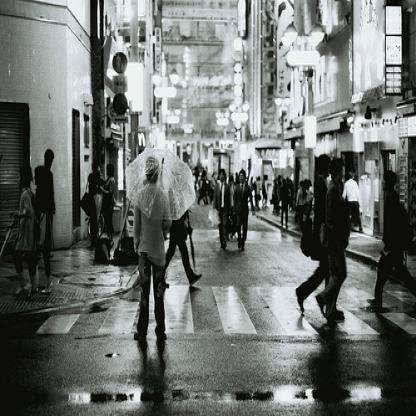backpack: (399, 203, 412, 254)
handbag: (79, 173, 96, 218), (299, 230, 321, 262)
suitcase: (121, 237, 134, 254)
